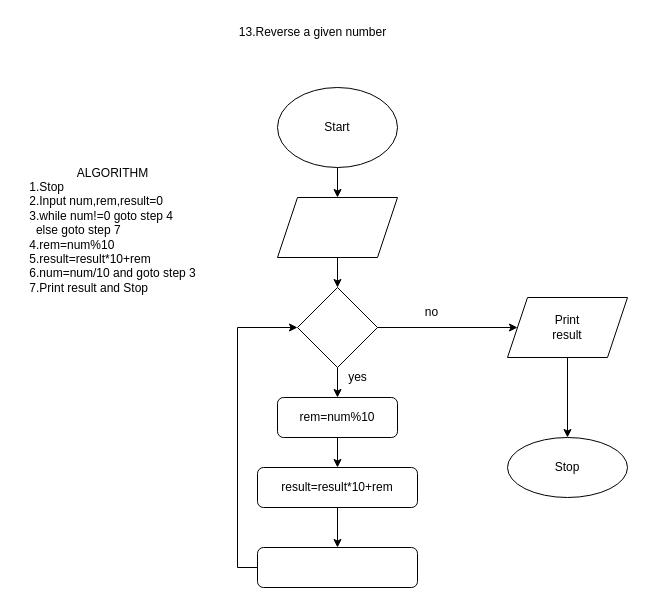
The diagram is 645 pixels wide and 605 high, and some of its shapes have lost their labels. The box of each missing label's shape, as (x1, y1, x2, y2) in pixels:
input num,rem, result=0: (276, 196, 398, 258)
num=num/10: (256, 546, 418, 588)
while num!=0: (296, 286, 378, 368)
